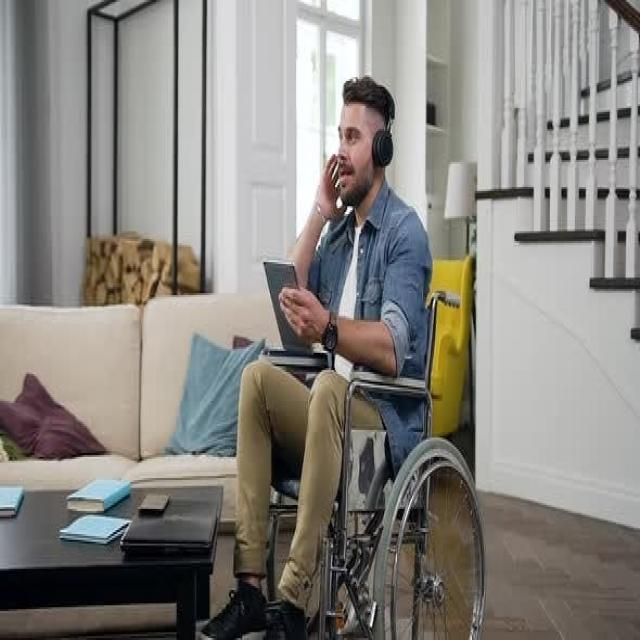sitting: (205, 61, 426, 640)
